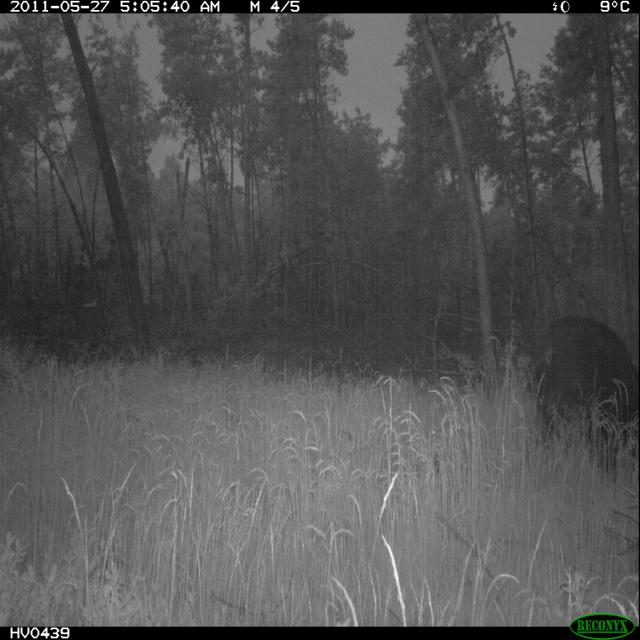boar: (510, 295, 640, 492)
